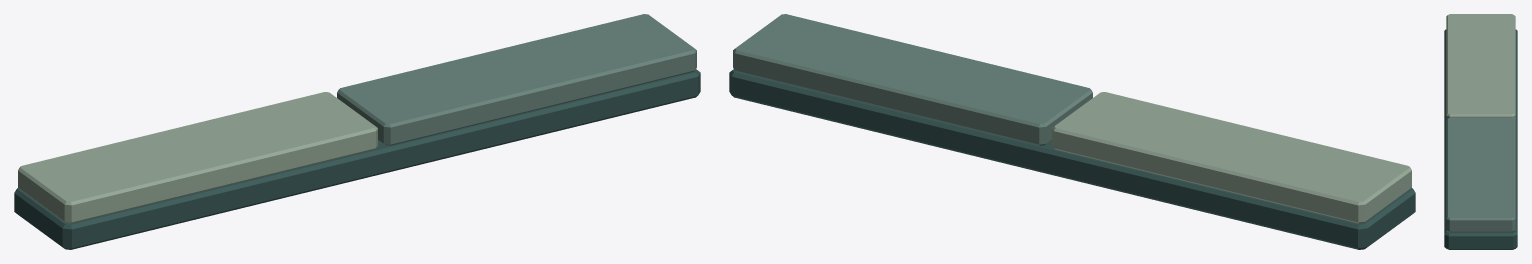
Rendered from floor-border.glb.
3 views of the same model, side by side, from view 1: azimuth 30°, elevation 25°; view 2: azimuth 150°, elevation 25°; view 3: azimuth 270°, elevation 25° (orthographic). The views are drawn at different scales.
Parts seen in each view (by area): view 1: floor-border__body; view 2: floor-border__body; view 3: floor-border__body.
Part boxes in pixels (x1=…): floor-border__body: x1=14, y1=14, x2=700, y2=249; floor-border__body: x1=729, y1=14, x2=1415, y2=249; floor-border__body: x1=1444, y1=14, x2=1517, y2=249.
Bounding box in the file's own units: 2 × 0.14 × 0.3.
